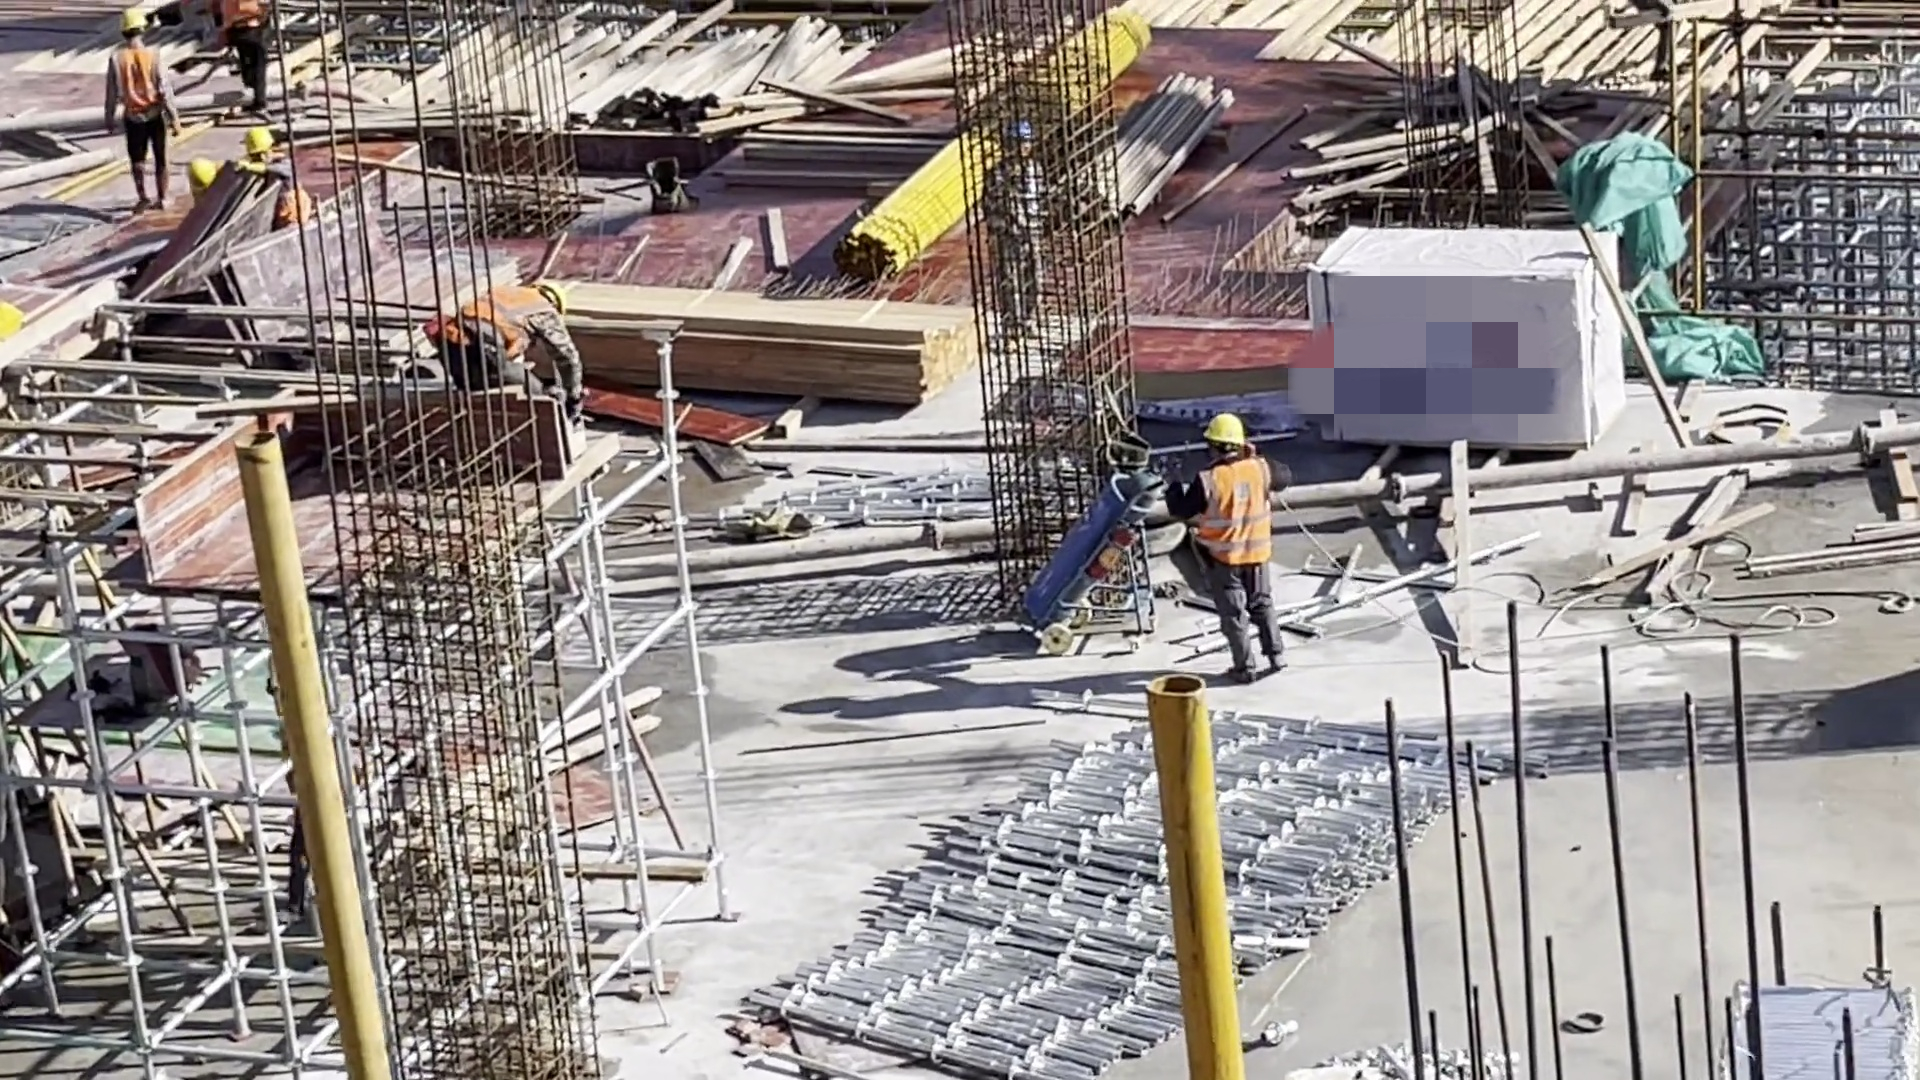helmet: (1202, 414, 1248, 450), (248, 127, 274, 169), (184, 153, 214, 184), (126, 16, 150, 35)
person: (1177, 412, 1299, 683), (440, 275, 588, 412), (95, 12, 192, 206), (241, 121, 313, 238), (217, 2, 284, 104)
scaffold: (752, 690, 1500, 1080)
vest: (1195, 462, 1274, 571), (439, 279, 540, 362), (113, 47, 159, 119), (281, 175, 304, 224)
wood: (558, 283, 985, 405)
